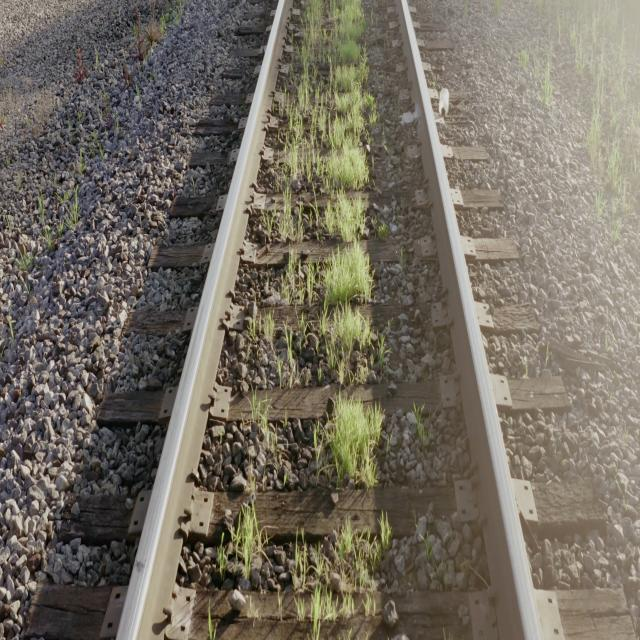Plant: (280, 0, 381, 387), (289, 516, 391, 638), (311, 393, 382, 489), (231, 502, 260, 589), (269, 184, 302, 233), (278, 331, 300, 387), (251, 396, 269, 427), (262, 320, 275, 342)
